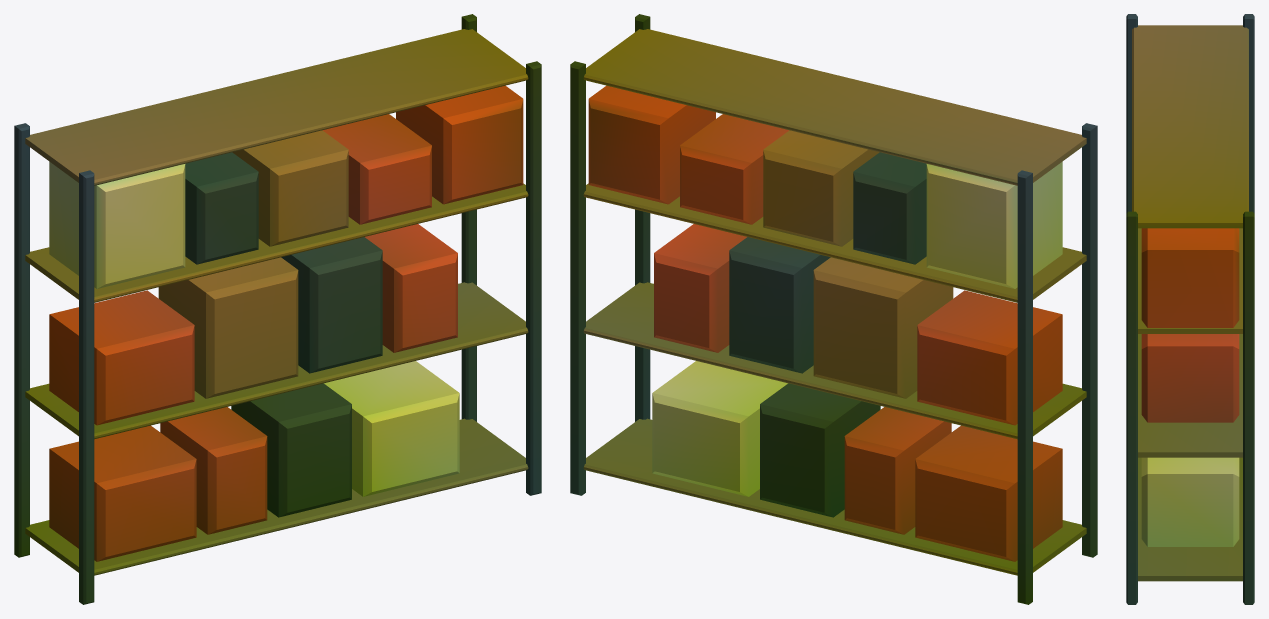
Rendered from GS_StorageShelf.fbx.
3 renders of one model, left to right at view 1: azimuth 30°, elevation 25°; view 2: azimuth 150°, elevation 25°; view 3: azimuth 270°, elevation 25°, orthographic. The views are drawn at different scales.
Parts seen in each view (by area): view 1: GS_StorageShelf; view 2: GS_StorageShelf; view 3: GS_StorageShelf.
Boxes of the visible parts, left/top/right/bottom form: GS_StorageShelf: left=14, top=14, right=541, bottom=604; GS_StorageShelf: left=570, top=14, right=1097, bottom=604; GS_StorageShelf: left=1126, top=14, right=1254, bottom=604.
Size of the model in its own units: 2.46 by 2.2 by 0.66.
